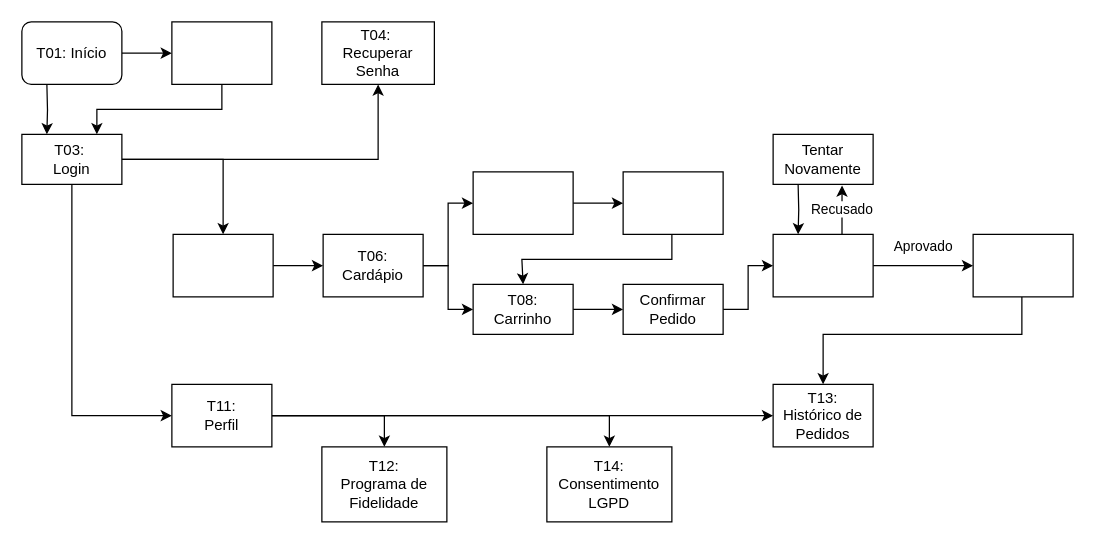
The diagram is 1095 pixels wide and 544 high, and some of its shapes have lost their labels. Each missing label, with the centre of its shape:
"Adicionar ao Carrinho" belongs at pixel 672 202.
"T02: Cadastro" belongs at pixel 221 52.
"T05: Selecionar Unidade" belongs at pixel 222 265.
"T07: Detalhes do Produto" belongs at pixel 522 202.
"T09: Pagamento" belongs at pixel 822 265.
"T10: Status do Pedido" belongs at pixel 1022 265.
